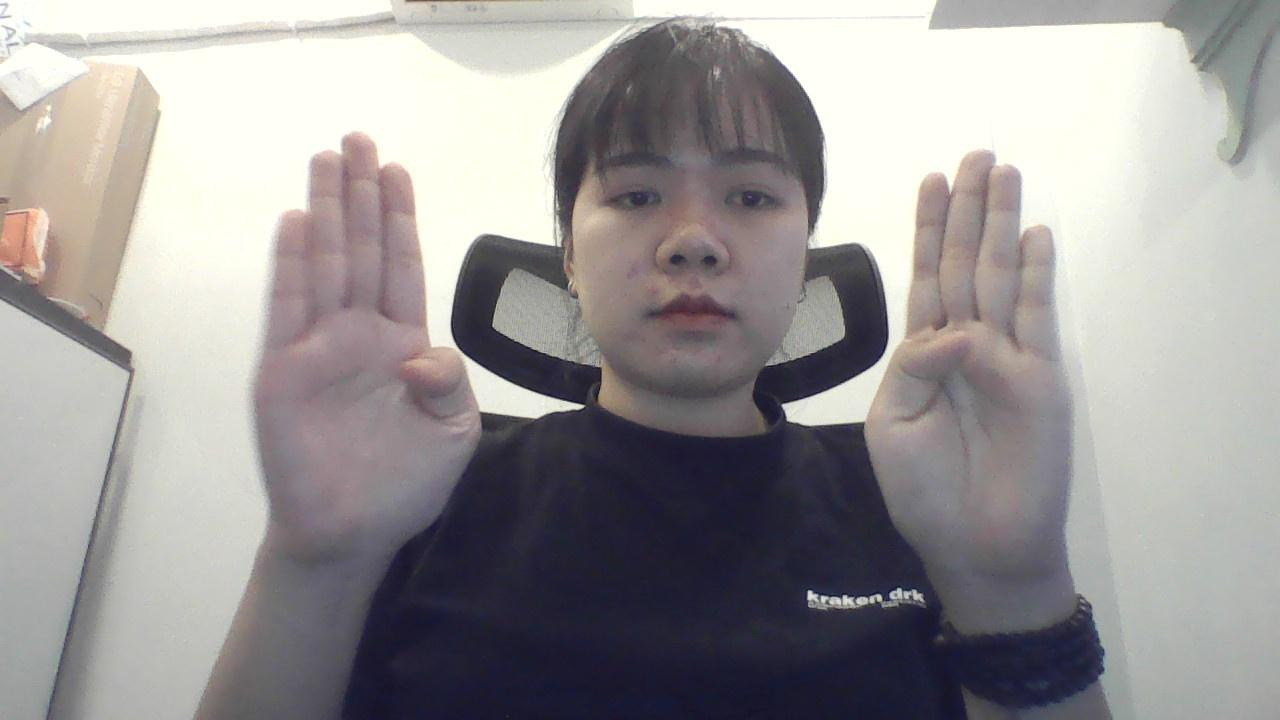B: (857, 129, 1112, 593), (240, 119, 482, 591)
